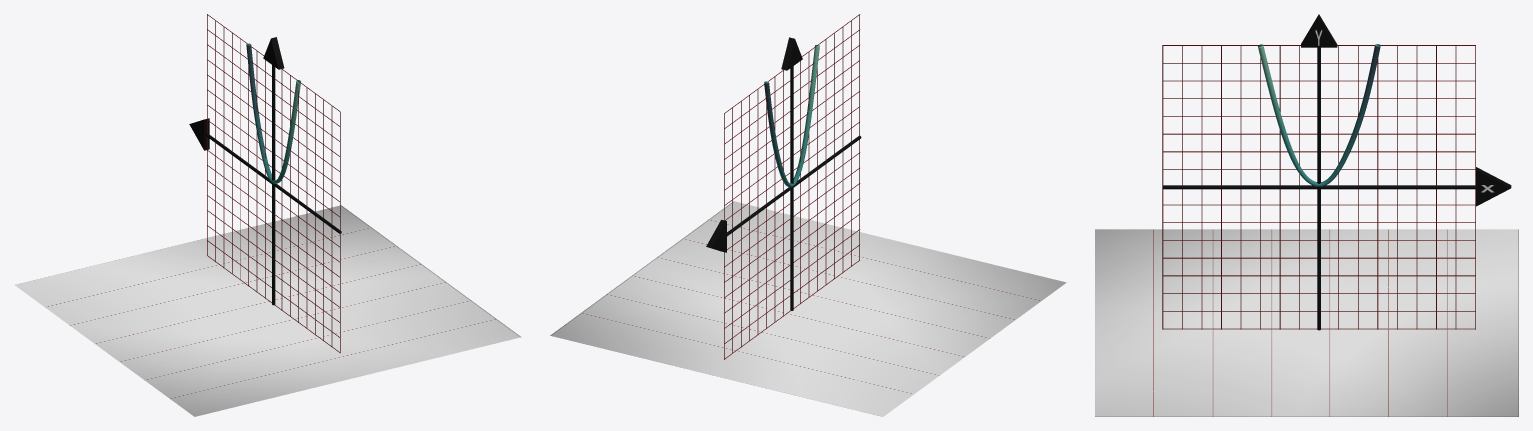
The model's file is y=(x+k)^2 positivo.fbx.
3 views of the same model, side by side, from view 1: azimuth 30°, elevation 25°; view 2: azimuth 150°, elevation 25°; view 3: azimuth 270°, elevation 25° (orthographic). The views are drawn at different scales.
Visible parts, largest first — view 1: parabola:plane:pPlane1, parabola2, parabola:pCylinder37, parabola:pCylinder36, parabola:pCylinder19, parabola:pCylinder23; view 2: parabola:plane:pPlane1, parabola2, parabola:pCylinder37, parabola:pCylinder36, parabola:pCylinder23, parabola:pCylinder22; view 3: parabola:plane:pPlane1, parabola2, parabola:pCylinder36, parabola:pCylinder37, parabola:nueva_flecha_x:polySurface1, parabola:Nueva_flecha_y:polySurface1, parabola:pCylinder14, parabola:pCylinder10, parabola:pCylinder17, parabola:pCylinder13, parabola:pCylinder7, parabola:pCylinder3 (+8 smaller).
Boxes of the visible parts, <box> form: parabola:plane:pPlane1: <box>15,205,521,416</box>; parabola2: <box>246,43,300,183</box>; parabola:pCylinder37: <box>272,65,275,305</box>; parabola:pCylinder36: <box>205,133,341,233</box>; parabola:pCylinder19: <box>331,106,332,346</box>; parabola:pCylinder23: <box>306,88,307,328</box>; parabola:plane:pPlane1: <box>550,201,1066,416</box>; parabola2: <box>764,45,819,187</box>; parabola:pCylinder37: <box>790,66,793,310</box>; parabola:pCylinder36: <box>727,136,861,236</box>; parabola:pCylinder23: <box>825,39,826,284</box>; parabola:pCylinder22: <box>842,27,843,272</box>; parabola:plane:pPlane1: <box>1095,229,1518,416</box>; parabola2: <box>1258,44,1380,186</box>; parabola:pCylinder36: <box>1162,185,1475,189</box>; parabola:pCylinder37: <box>1317,47,1320,330</box>; parabola:nueva_flecha_x:polySurface1: <box>1476,167,1511,206</box>; parabola:Nueva_flecha_y:polySurface1: <box>1301,14,1337,47</box>; parabola:pCylinder14: <box>1163,275,1475,276</box>; parabola:pCylinder10: <box>1162,204,1475,205</box>; parabola:pCylinder17: <box>1162,328,1475,329</box>; parabola:pCylinder13: <box>1162,257,1475,258</box>; parabola:pCylinder7: <box>1163,151,1475,152</box>; parabola:pCylinder3: <box>1163,80,1475,81</box>.
Size of the model in its own units: 56.75 by 44.29 by 54.19.
